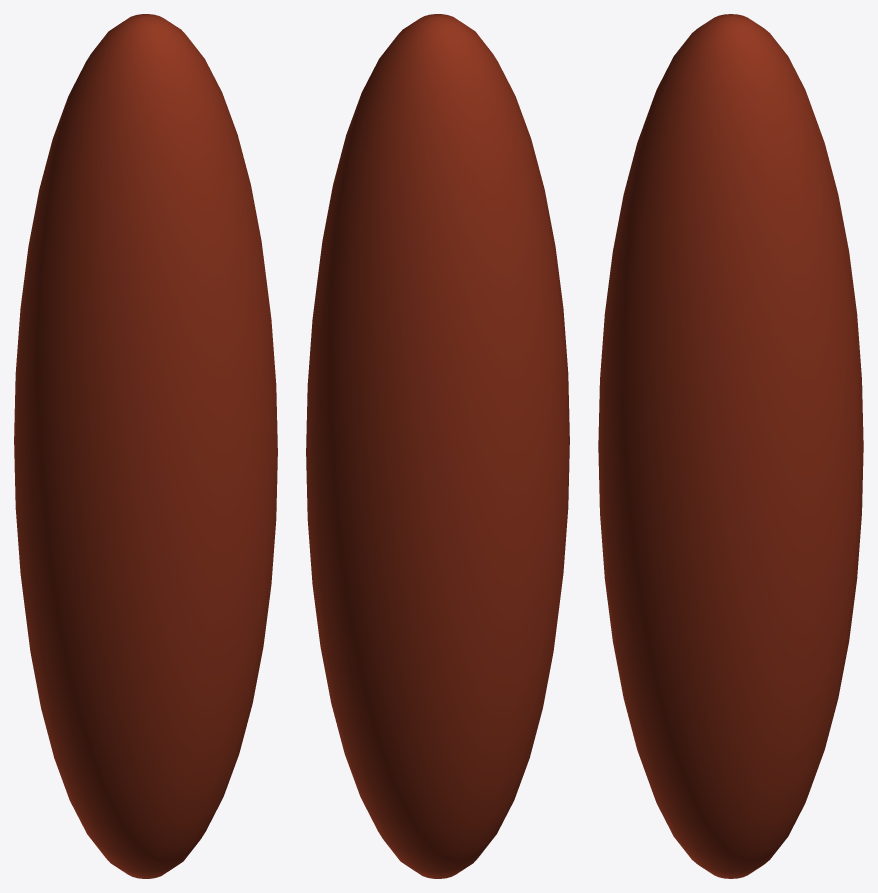
Rendered from minBullet.fbx.
3 renders of one model, left to right at view 1: azimuth 30°, elevation 25°; view 2: azimuth 150°, elevation 25°; view 3: azimuth 270°, elevation 25°, orthographic.
Parts seen in each view (by area): view 1: pSphere1; view 2: pSphere1; view 3: pSphere1.
Part boxes in pixels (box(x1,y1,x2,y2)): pSphere1: box(14, 14, 277, 878); pSphere1: box(306, 14, 569, 878); pSphere1: box(598, 14, 863, 878).
Bounding box in the file's own units: 2 × 7.14 × 2.
